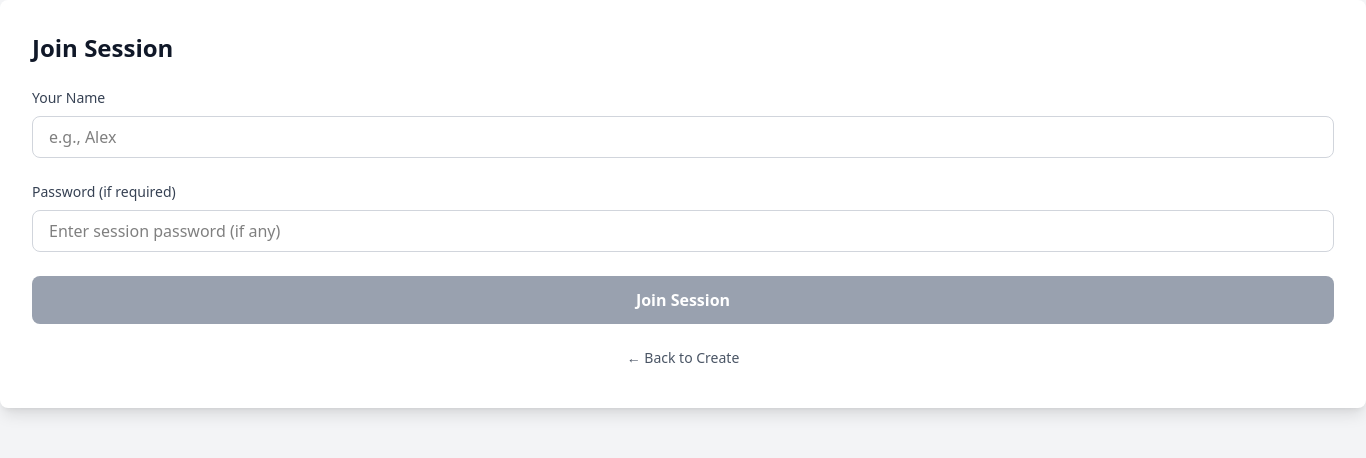
JoinSessionCard › Form Validation › should show error for invalid name
Step 1. Type "<img>" into the field labelled "Your Name" → (683, 137), box [32,116,1334,158]
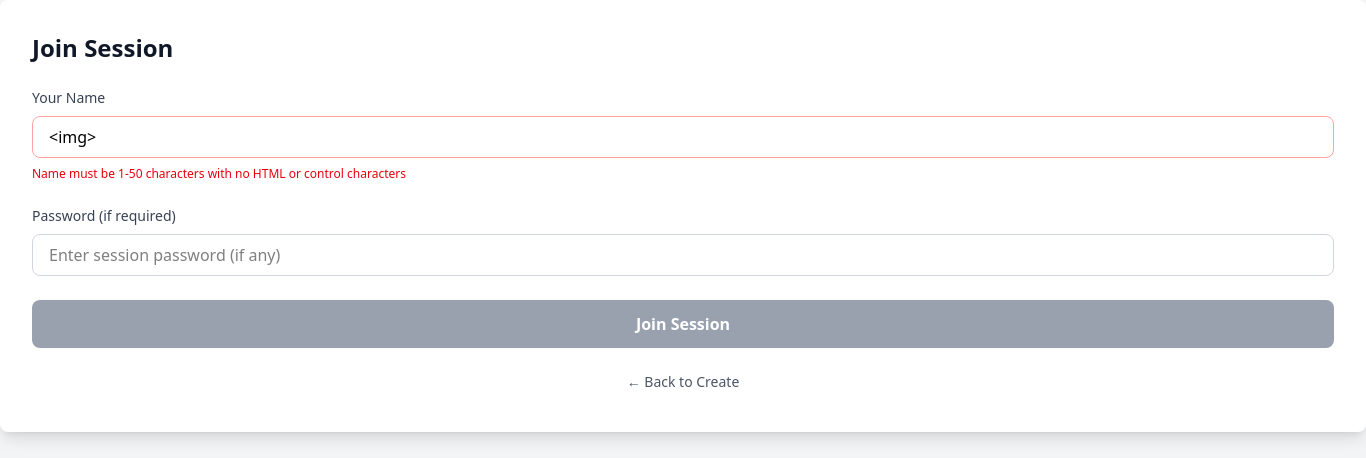
Check: the text "Name must be 1-50 characters with no HTML or control characters" is shown, box [32,165,406,182]
